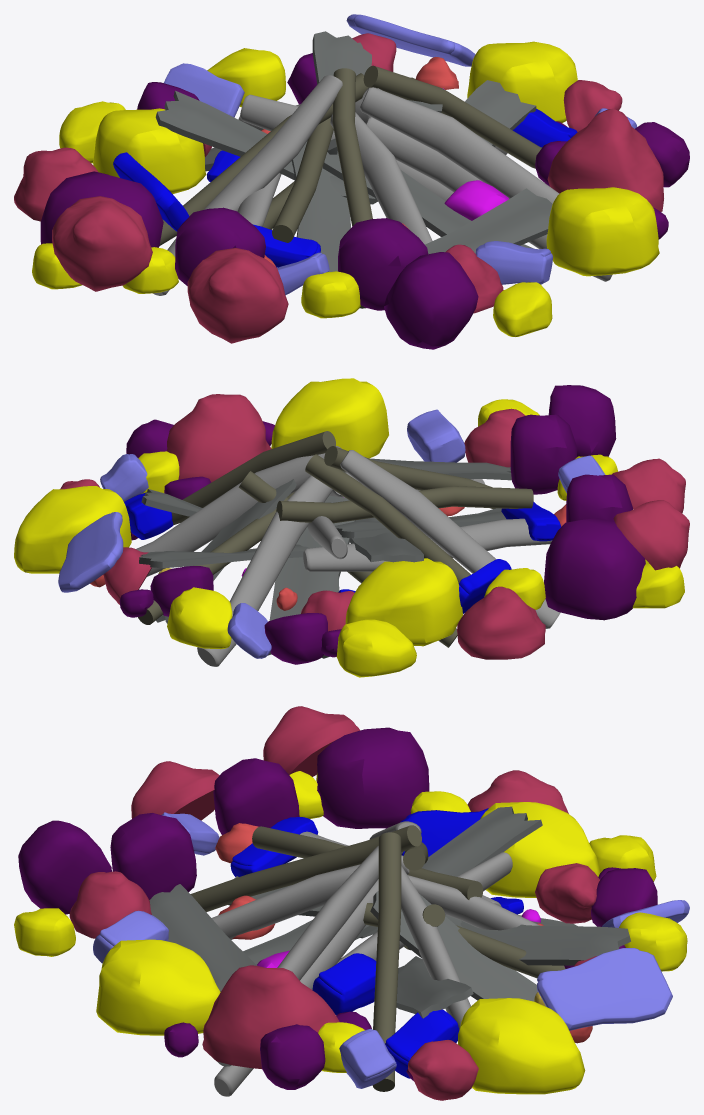
File: snowyCampfire.fbx
3 views of the same model, one above another, from view 1: azimuth 30°, elevation 25°; view 2: azimuth 150°, elevation 25°; view 3: azimuth 270°, elevation 25° (orthographic). The views are drawn at different scales.
Parts seen in each view (by area): view 1: polySurface16, polySurface3, polySurface7, polySurface10, polySurface73, polySurface42, polySurface24, polySurface13, polySurface32, polySurface72, polySurface28, polySurface53 (+38 smaller); view 2: polySurface40, polySurface24, polySurface16, polySurface10, polySurface13, polySurface72, polySurface8, polySurface69, polySurface68, polySurface32, polySurface26, polySurface23 (+40 smaller); view 3: polySurface13, polySurface16, polySurface40, polySurface10, polySurface56, polySurface42, polySurface32, polySurface24, polySurface28, polySurface41, polySurface30, polySurface48 (+37 smaller).
Boxes of the visible parts, bbox=[...] form: polySurface16: bbox=[546, 187, 659, 276]; polySurface3: bbox=[187, 248, 288, 343]; polySurface7: bbox=[52, 196, 152, 291]; polySurface10: bbox=[547, 108, 663, 211]; polySurface73: bbox=[360, 87, 559, 203]; polySurface42: bbox=[384, 252, 478, 349]; polySurface24: bbox=[93, 108, 206, 193]; polySurface13: bbox=[467, 41, 577, 122]; polySurface32: bbox=[338, 218, 428, 310]; polySurface72: bbox=[153, 75, 342, 295]; polySurface28: bbox=[363, 65, 541, 168]; polySurface53: bbox=[155, 90, 377, 204]; polySurface40: bbox=[544, 518, 645, 620]; polySurface24: bbox=[345, 558, 462, 646]; polySurface16: bbox=[271, 378, 388, 458]; polySurface10: bbox=[167, 394, 271, 482]; polySurface13: bbox=[14, 486, 131, 573]; polySurface72: bbox=[340, 450, 560, 628]; polySurface8: bbox=[457, 586, 545, 659]; polySurface69: bbox=[197, 475, 332, 666]; polySurface68: bbox=[136, 453, 325, 576]; polySurface32: bbox=[510, 414, 577, 494]; polySurface26: bbox=[276, 486, 533, 523]; polySurface23: bbox=[336, 619, 416, 677]; polySurface13: bbox=[458, 998, 585, 1094]; polySurface16: bbox=[96, 939, 220, 1035]; polySurface40: bbox=[317, 727, 429, 828]; polySurface10: bbox=[202, 965, 339, 1068]; polySurface56: bbox=[537, 948, 672, 1030]; polySurface42: bbox=[18, 820, 111, 914]; polySurface32: bbox=[110, 813, 196, 899]; polySurface24: bbox=[480, 802, 600, 897]; polySurface28: bbox=[372, 832, 401, 1091]; polySurface41: bbox=[213, 758, 299, 834]; polySurface30: bbox=[190, 825, 421, 911]; polySurface48: bbox=[149, 884, 257, 991].
Size of the model in its own units: 2.94 by 0.8546 by 2.73.
